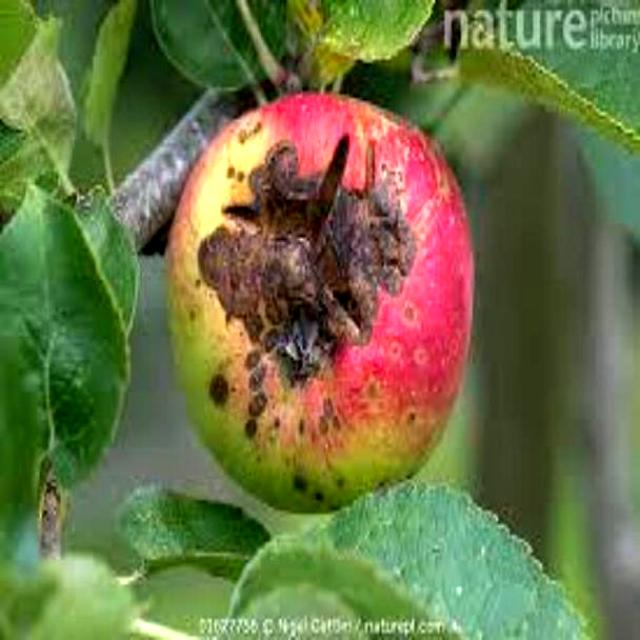SCAB: (156, 57, 483, 496)
